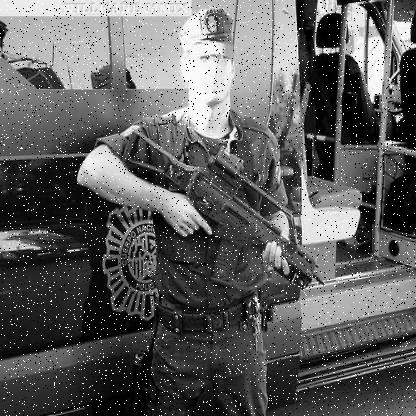rifle: (112, 116, 334, 297)
